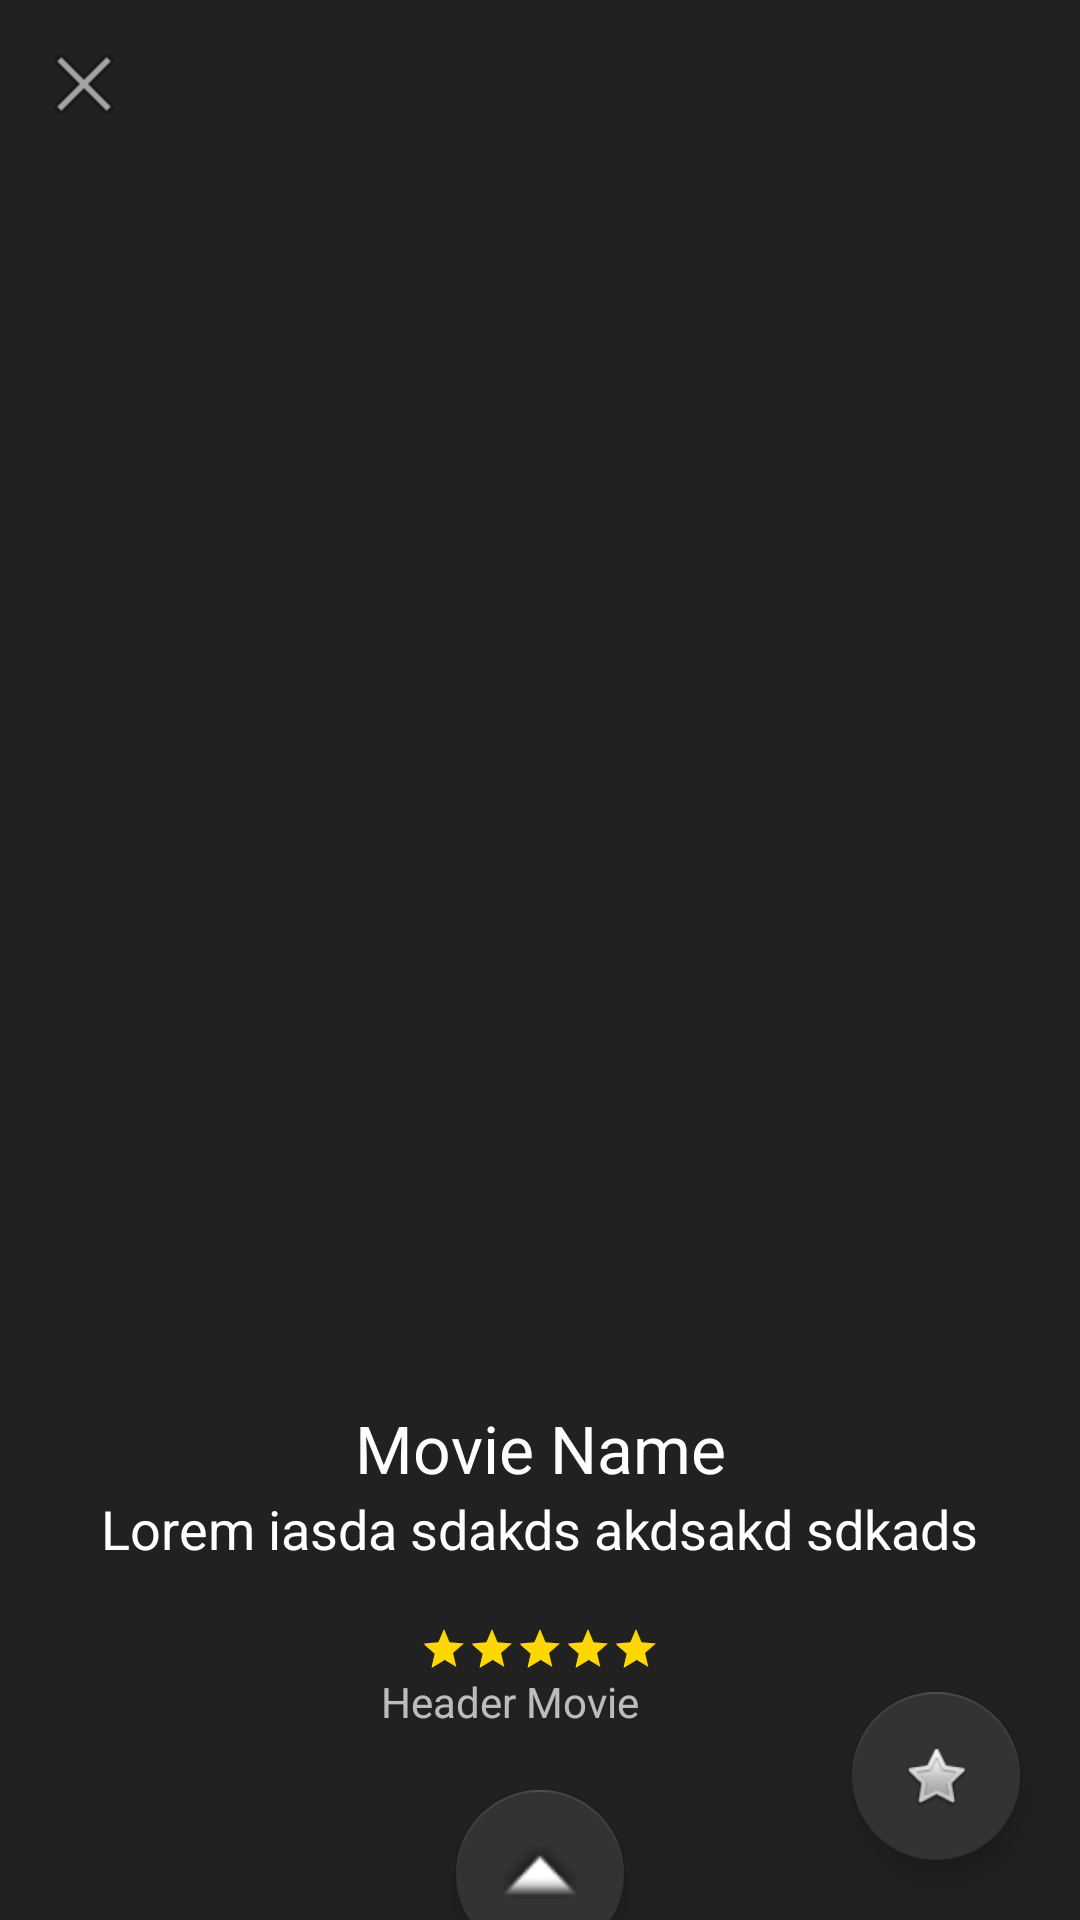

Named icons in this screenshot (1080×1920) and their centers, (x,y):
star off: (936,1776)
